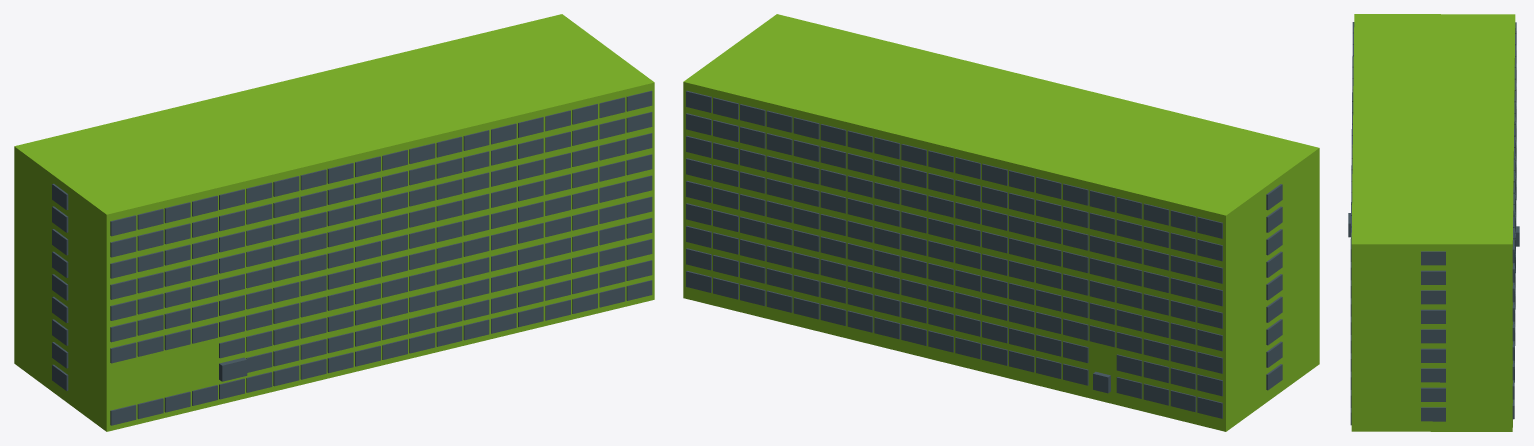
The picture shows the model from 3 angles, left to right: view 1: azimuth 30°, elevation 25°; view 2: azimuth 150°, elevation 25°; view 3: azimuth 270°, elevation 25°; orthographic projection. The views are drawn at different scales.
Parts seen in each view (by area): view 1: C; view 2: C; view 3: C.
Boxes of the visible parts, bbox=[...] form: C: bbox=[14, 14, 654, 431]; C: bbox=[683, 14, 1319, 431]; C: bbox=[1350, 14, 1516, 431].
Bounding box in the file's own units: 71.59 × 27 × 22.32.
